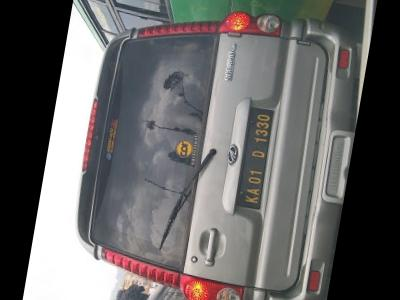plate: (218, 93, 284, 231)
